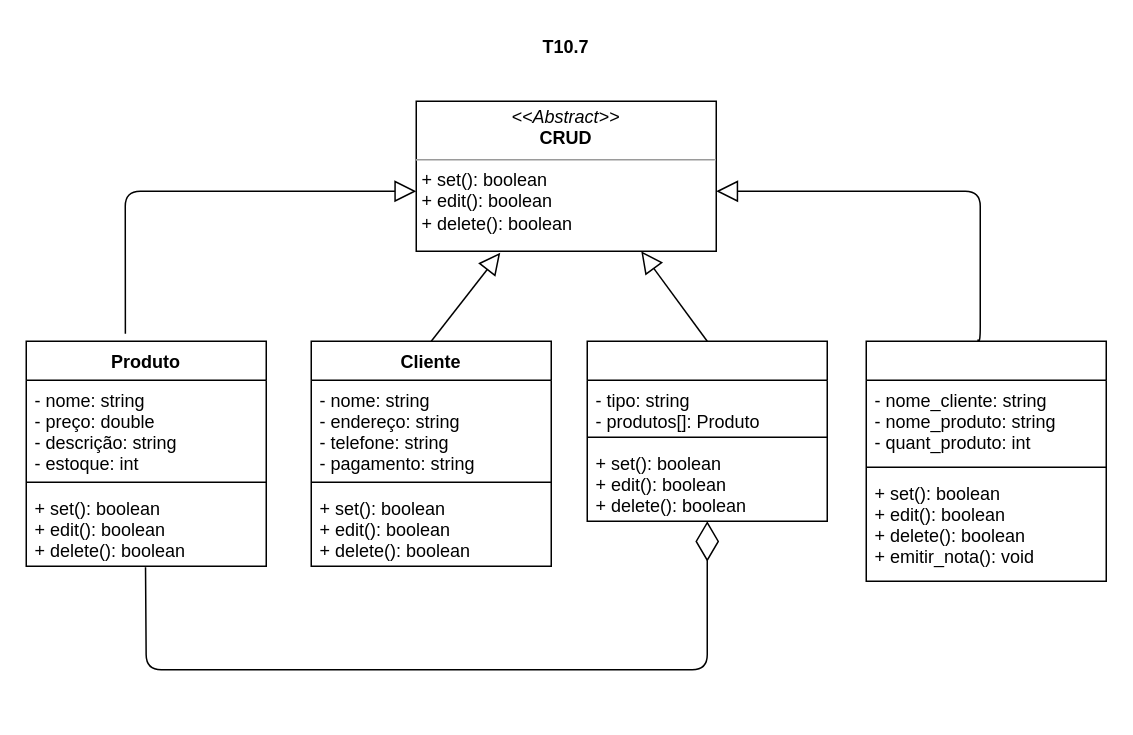
This 1133x735 diagram has some shape labels left out. The box of each missing label's shape, as (x1, y1, x2, y2) in pixels:
Cardápio: (586, 340, 827, 521)
Venda: (865, 340, 1106, 581)
